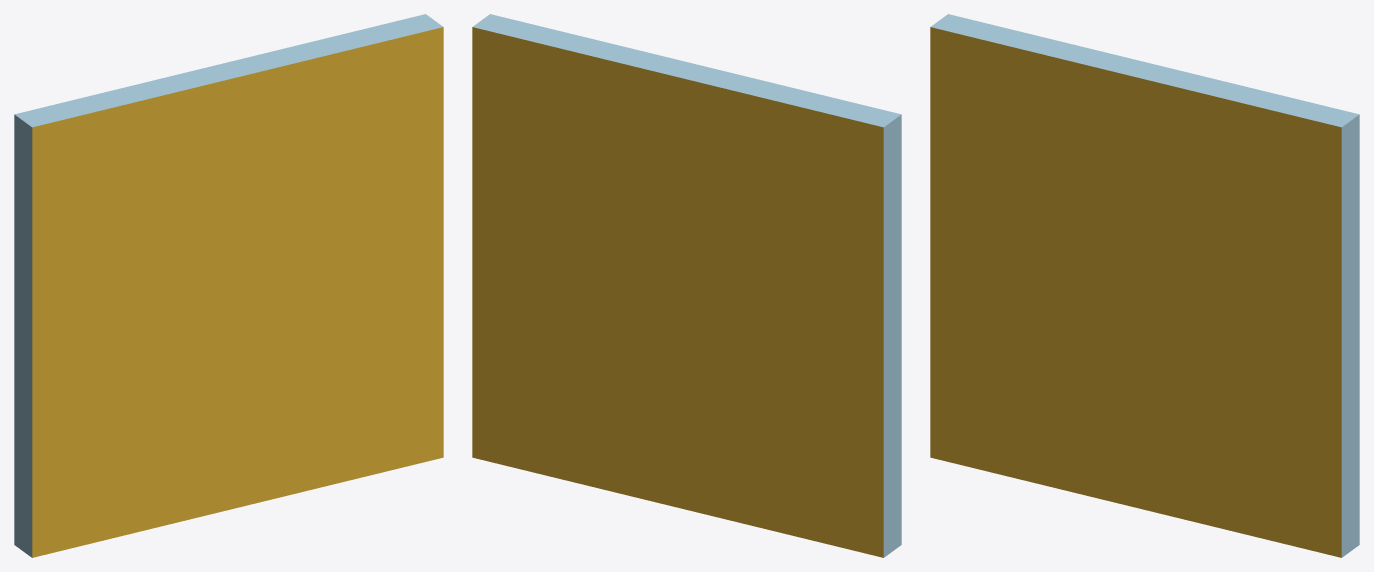
File: Wall1.fbx
3 renders of one model, left to right at view 1: azimuth 30°, elevation 25°; view 2: azimuth 150°, elevation 25°; view 3: azimuth 330°, elevation 25°, orthographic.
Visible parts, largest first — view 1: Wall, Wall Part 3, Wall Part 6, Wall Part 0, Wall Part 7, Wall Part 9, Wall Part 4, Wall Part 8, Wall Part 1, Wall Part 5, Wall Part 2; view 2: Wall, Wall Part 1, Wall Part 5, Wall Part 8, Wall Part 2, Wall Part 4, Wall Part 0, Wall Part 7, Wall Part 3, Wall Part 6; view 3: Wall, Wall Part 3, Wall Part 6, Wall Part 0, Wall Part 9, Wall Part 7, Wall Part 8, Wall Part 4.
Boxes of the visible parts, x1,y1,x2,y2 form: Wall: [14, 14, 443, 557]; Wall Part 3: [14, 64, 237, 300]; Wall Part 6: [220, 41, 376, 262]; Wall Part 0: [14, 199, 182, 426]; Wall Part 7: [246, 169, 443, 312]; Wall Part 9: [332, 14, 443, 203]; Wall Part 4: [176, 262, 301, 375]; Wall Part 8: [331, 235, 443, 417]; Wall Part 1: [18, 387, 107, 557]; Wall Part 5: [281, 311, 344, 369]; Wall Part 2: [119, 318, 186, 391]; Wall: [472, 14, 901, 438]; Wall Part 1: [739, 380, 901, 557]; Wall Part 5: [524, 311, 677, 507]; Wall Part 8: [472, 236, 584, 469]; Wall Part 2: [677, 318, 796, 522]; Wall Part 4: [614, 288, 739, 479]; Wall Part 0: [734, 252, 901, 426]; Wall Part 7: [473, 206, 640, 312]; Wall Part 3: [679, 64, 901, 299]; Wall Part 6: [585, 40, 694, 76]; Wall: [930, 14, 1359, 557]; Wall Part 3: [930, 14, 1153, 273]; Wall Part 6: [1136, 64, 1275, 266]; Wall Part 0: [930, 111, 1080, 319]; Wall Part 9: [1243, 91, 1356, 303]; Wall Part 7: [1144, 237, 1359, 347]; Wall Part 8: [1278, 323, 1359, 557]; Wall Part 4: [1076, 262, 1186, 329].
Size of the model in its own units: 200 by 200 by 15.
